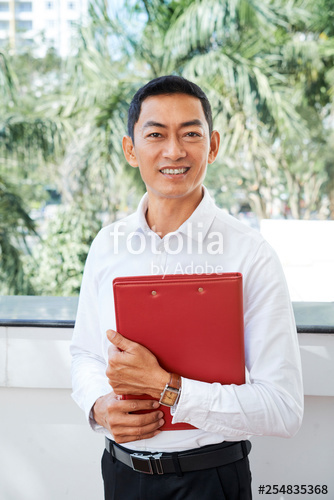red folder: (106, 267, 257, 439)
